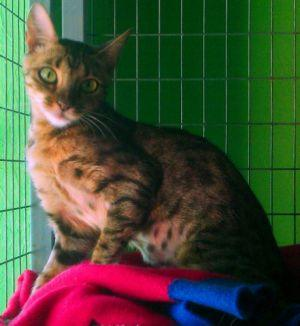bengal: (12, 2, 136, 133)
